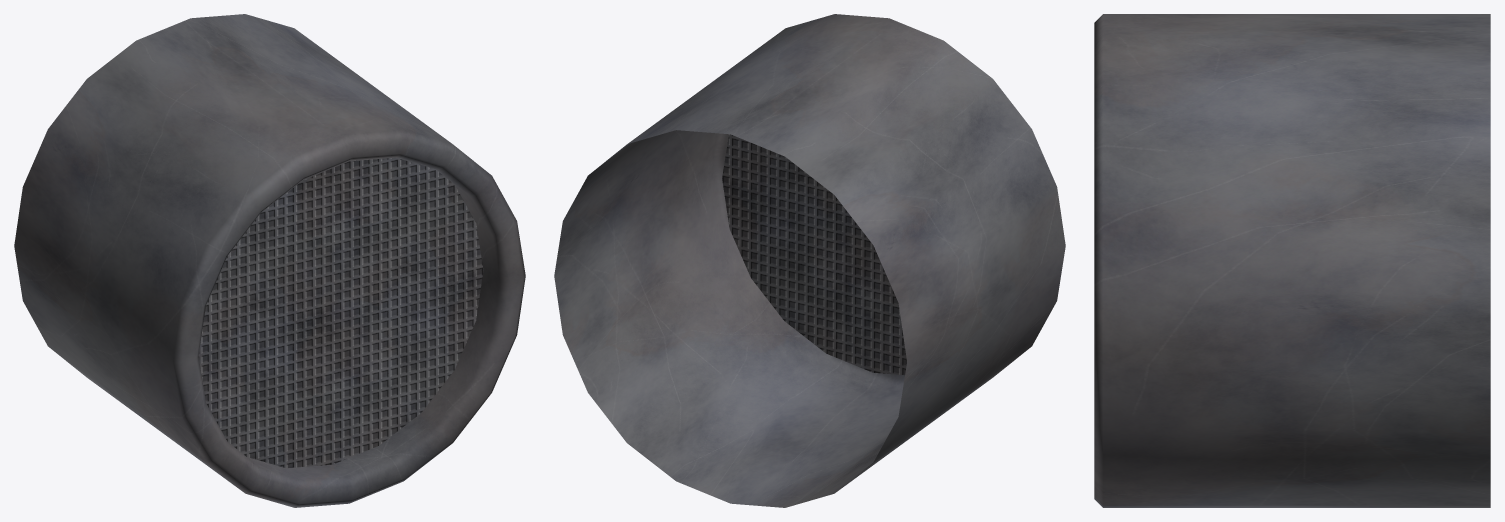
File: HeistVent.fbx
3 views of the same model, side by side, from view 1: azimuth 30°, elevation 25°; view 2: azimuth 150°, elevation 25°; view 3: azimuth 270°, elevation 25° (orthographic). The views are drawn at different scales.
Visible parts, largest first — view 1: HeistGrate; view 2: HeistGrate; view 3: HeistGrate.
Boxes of the visible parts, box(x1,y1,x2,y2) form: HeistGrate: box(14, 14, 525, 507); HeistGrate: box(554, 14, 1065, 507); HeistGrate: box(1094, 14, 1490, 507).
Bounding box in the file's own units: 3.51 × 3.51 × 2.8.
2 materials, 2 textured.
